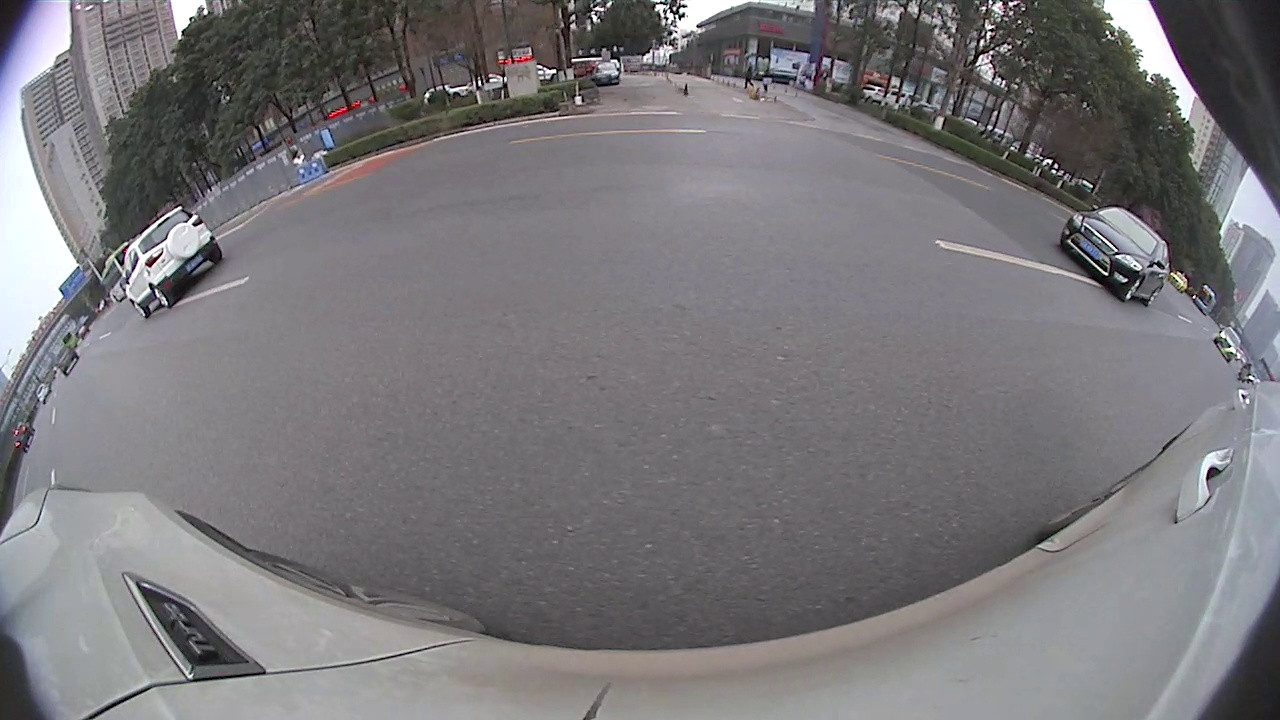bus: (98, 241, 132, 303)
car: (122, 206, 224, 317), (1060, 206, 1171, 307), (1213, 326, 1243, 364)
front: (1124, 277, 1144, 302), (130, 301, 150, 318)
rear: (152, 287, 173, 306), (1146, 288, 1161, 308)
